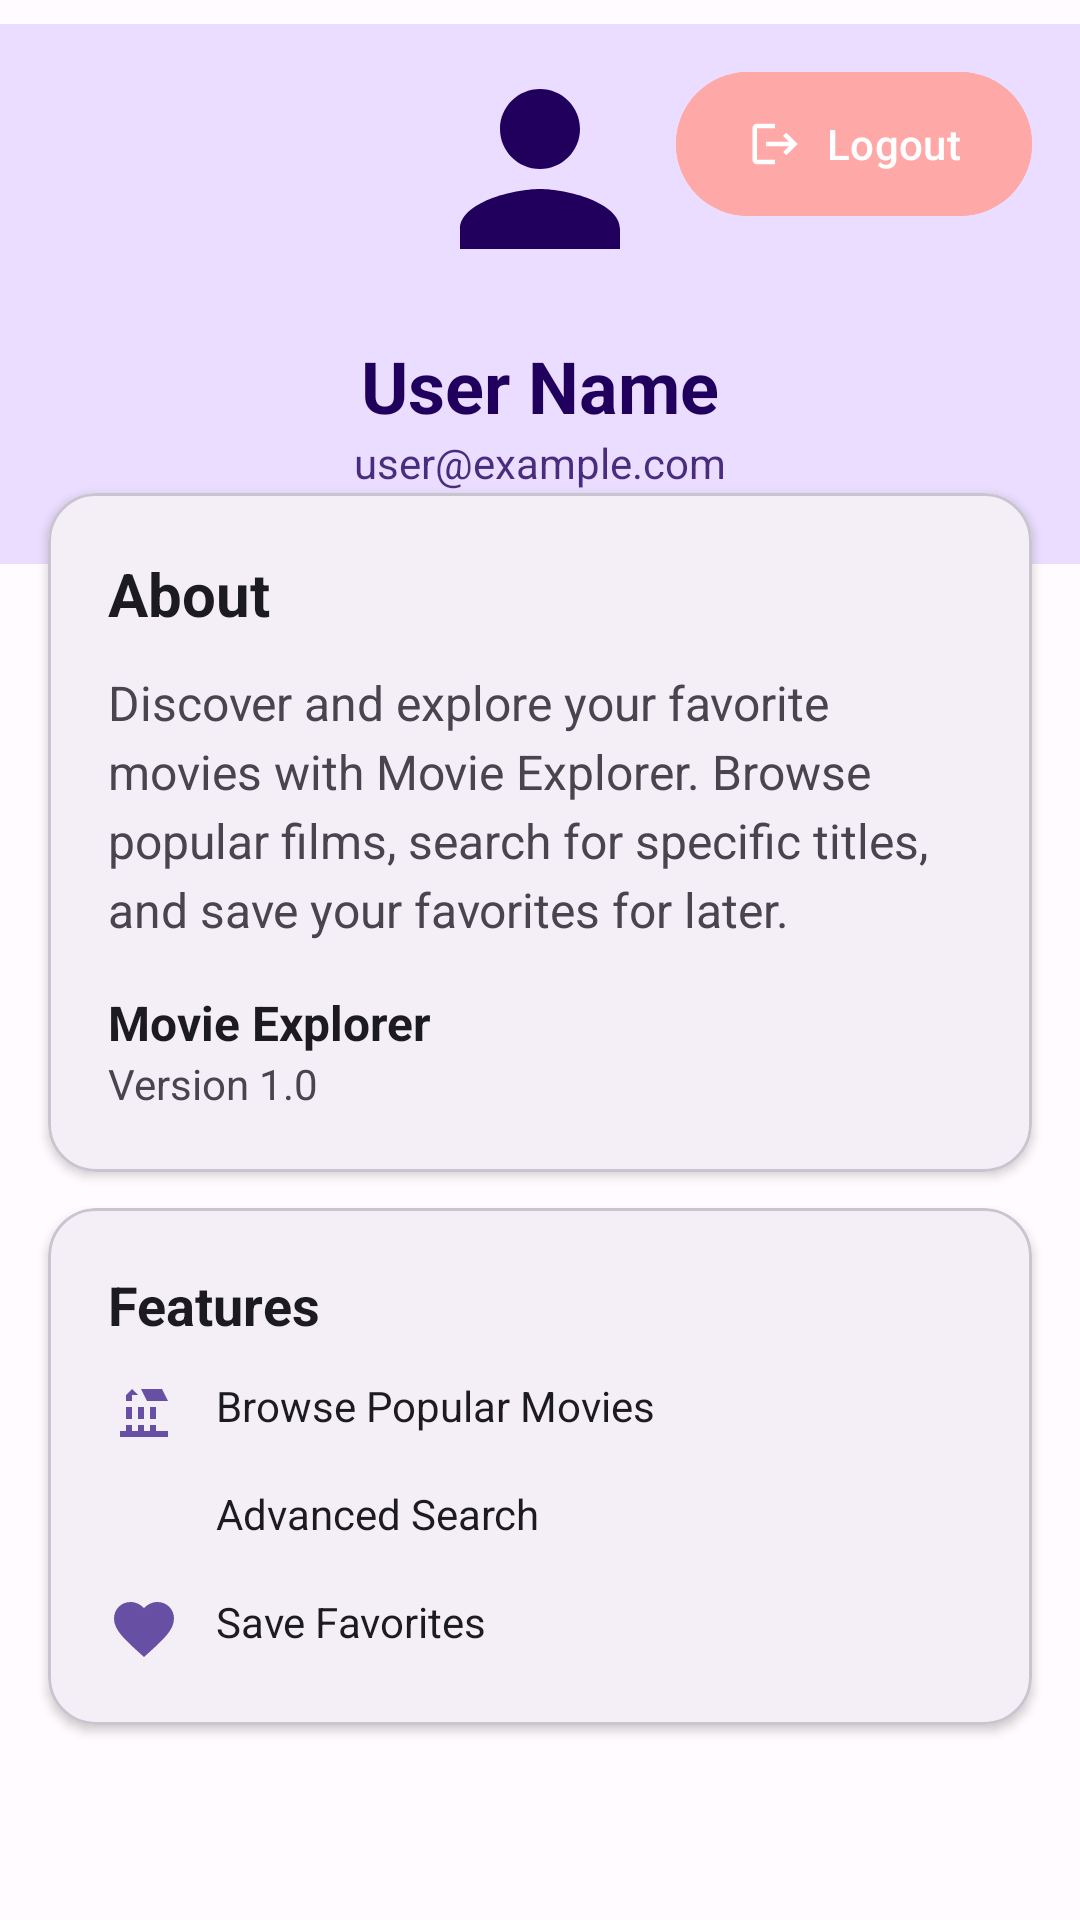

Where icons sit on this 1080px×1920px app screen, as (x1, y1, x2, y2):
Profile: (460, 89, 620, 249)
